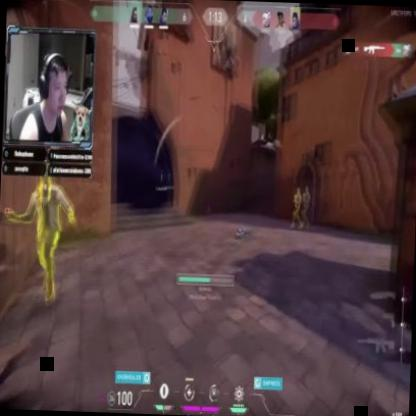enemy: (3, 166, 80, 302), (290, 187, 305, 228)
enemy_head: (38, 168, 52, 192), (296, 187, 300, 195)
